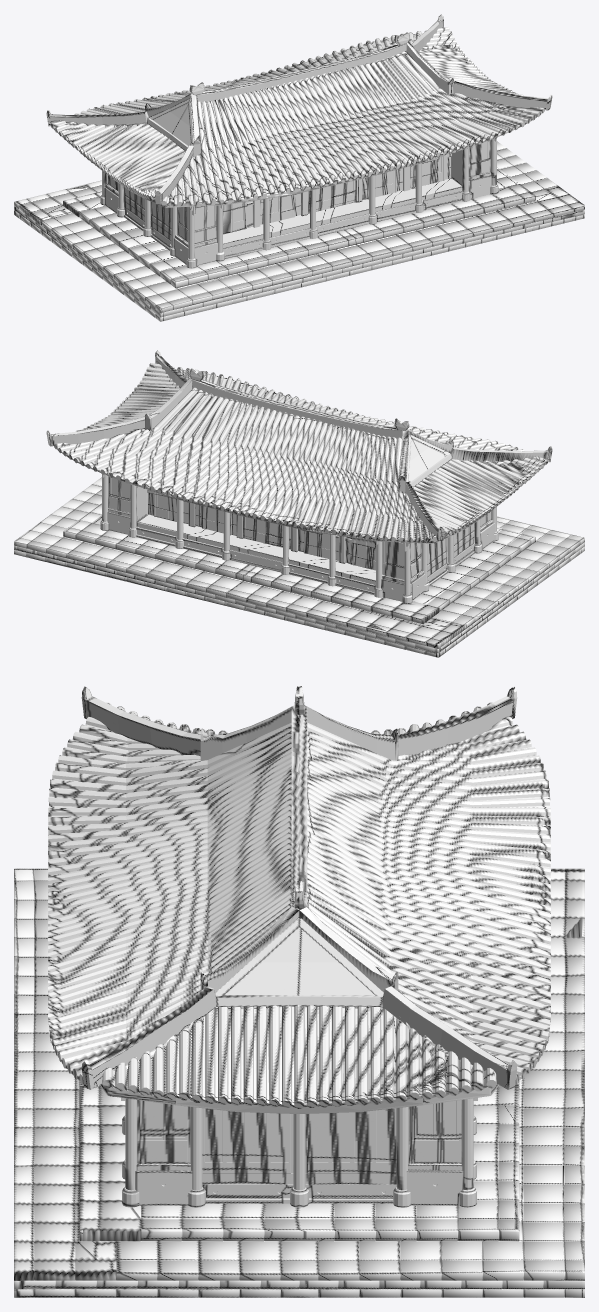
File: 1GamYoung4.fbx
3 renders of one model, top to bottom at view 1: azimuth 30°, elevation 25°; view 2: azimuth 150°, elevation 25°; view 3: azimuth 270°, elevation 25°, orthographic. The views are drawn at different scales.
Parts seen in each view (by area): view 1: Object003; view 2: Object003; view 3: Object003.
Boxes of the visible parts, x1,y1,x2,y2 form: Object003: (14,14,584,321); Object003: (14,350,584,657); Object003: (14,686,584,1297).
Bounding box in the file's own units: 5786 × 2050 × 3456.
1 material, 1 textured.
